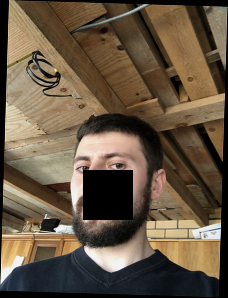without_mask: (71, 144, 144, 249)
